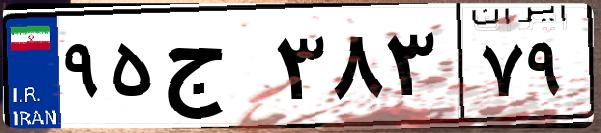3: (270, 28, 330, 110), (385, 28, 445, 110)
5: (110, 28, 158, 98)
7: (475, 38, 525, 113)
8: (330, 28, 385, 110)
9: (57, 26, 110, 100), (525, 38, 570, 115)
ج: (158, 20, 270, 120)
